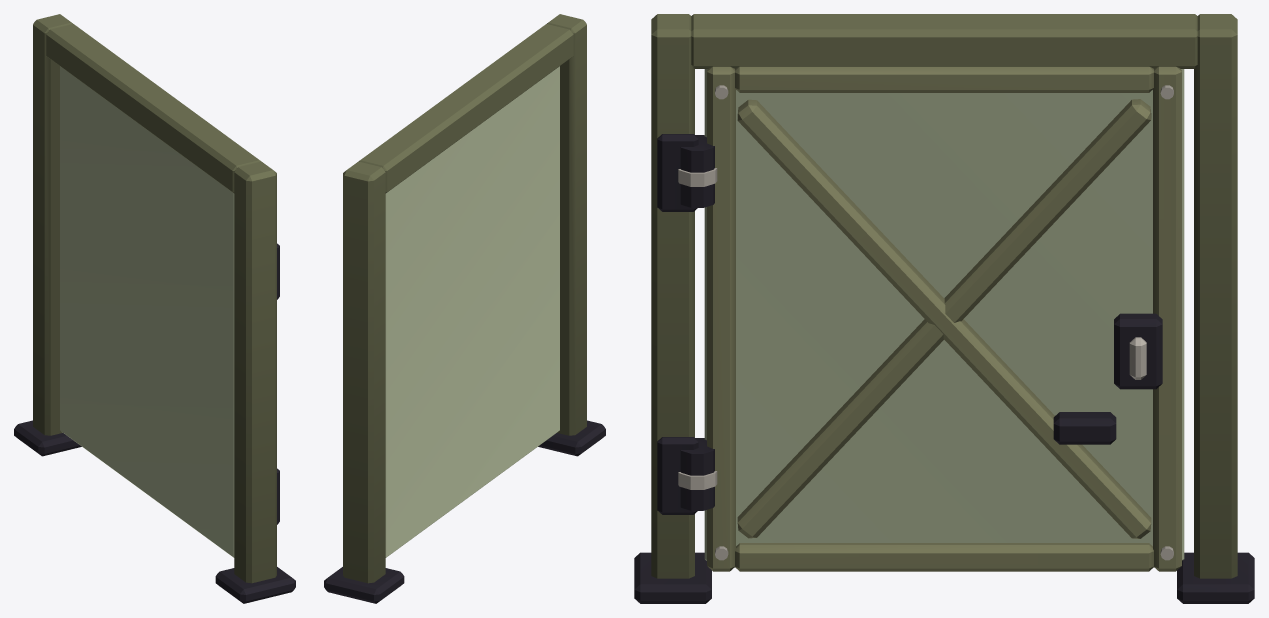
Rendered from prop.service-gate.glb.
3 views of the same model, side by side, from view 1: azimuth 30°, elevation 25°; view 2: azimuth 150°, elevation 25°; view 3: azimuth 270°, elevation 25° (orthographic). The views are drawn at different scales.
Parts seen in each view (by area): view 1: gate, body; view 2: gate, body; view 3: gate, body.
Boxes of the visible parts, x1,y1,x2,y2 form: gate: (60,66,234,557); body: (14,14,295,603); gate: (385,66,559,557); body: (324,14,605,603); gate: (678,66,1184,571); body: (634,14,1254,603).
Size of the model in its own units: 0.435 by 2.58 by 2.56.
